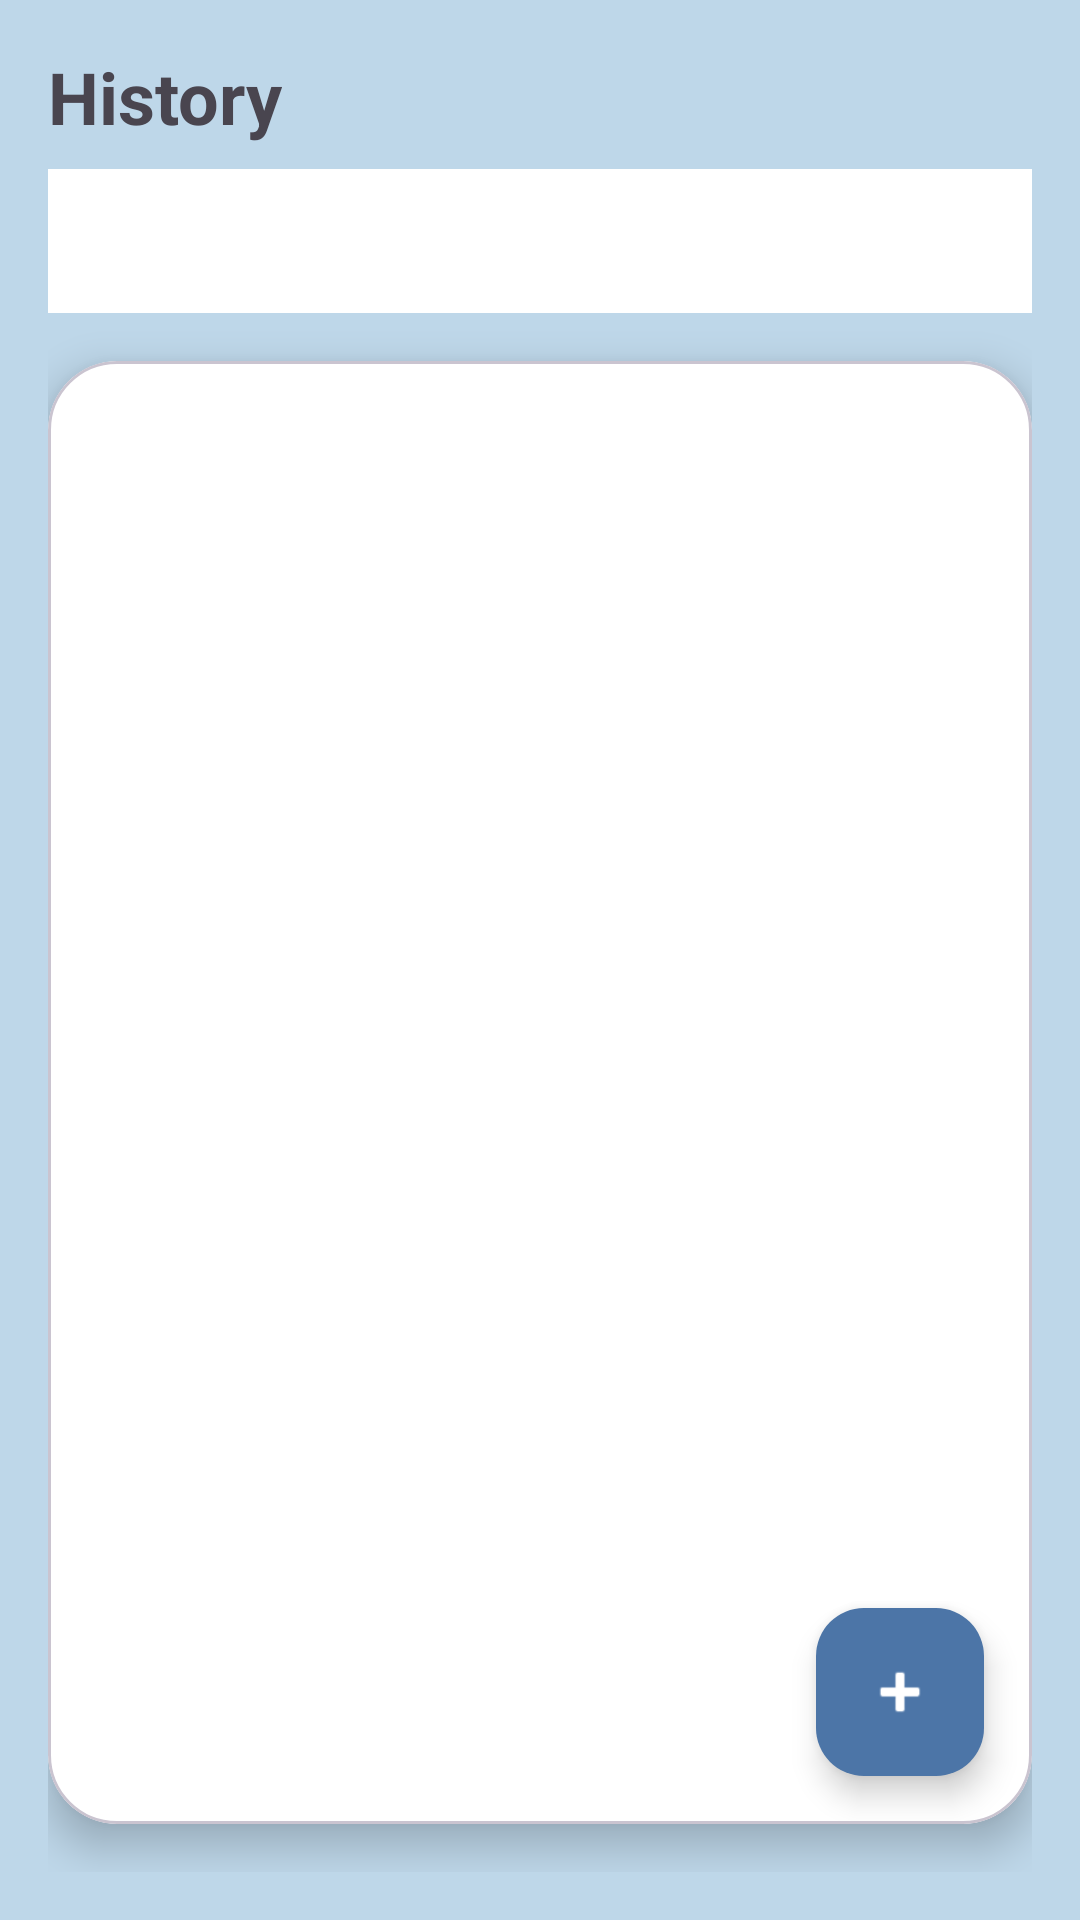

Named icons in this screenshot (1080 x 1920) and their centers, point (x, y):
add: point (900, 1692)
